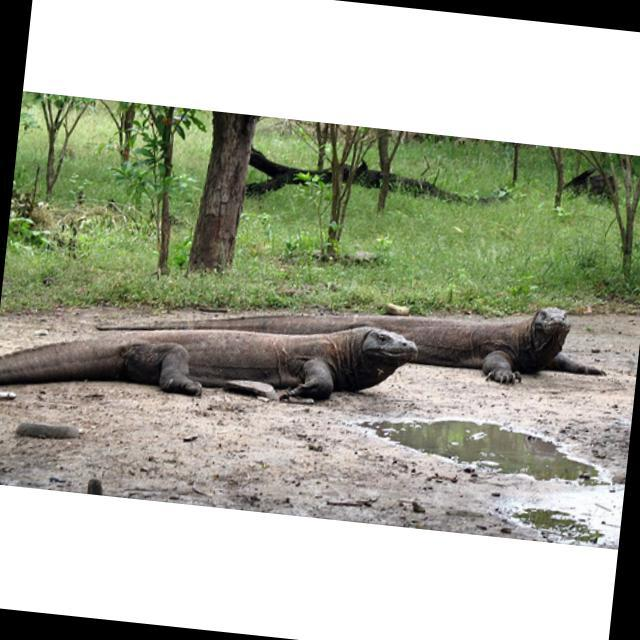KomodoDragon: (94, 256, 612, 393), (0, 287, 420, 423)
